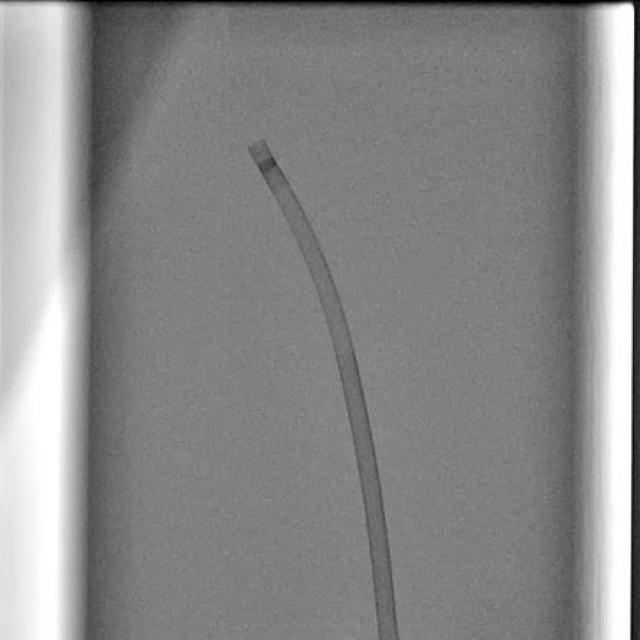bend: (330, 332, 355, 351)
entry: (378, 635, 398, 640)
marker: (257, 157, 278, 172)
tip: (248, 141, 265, 148)
